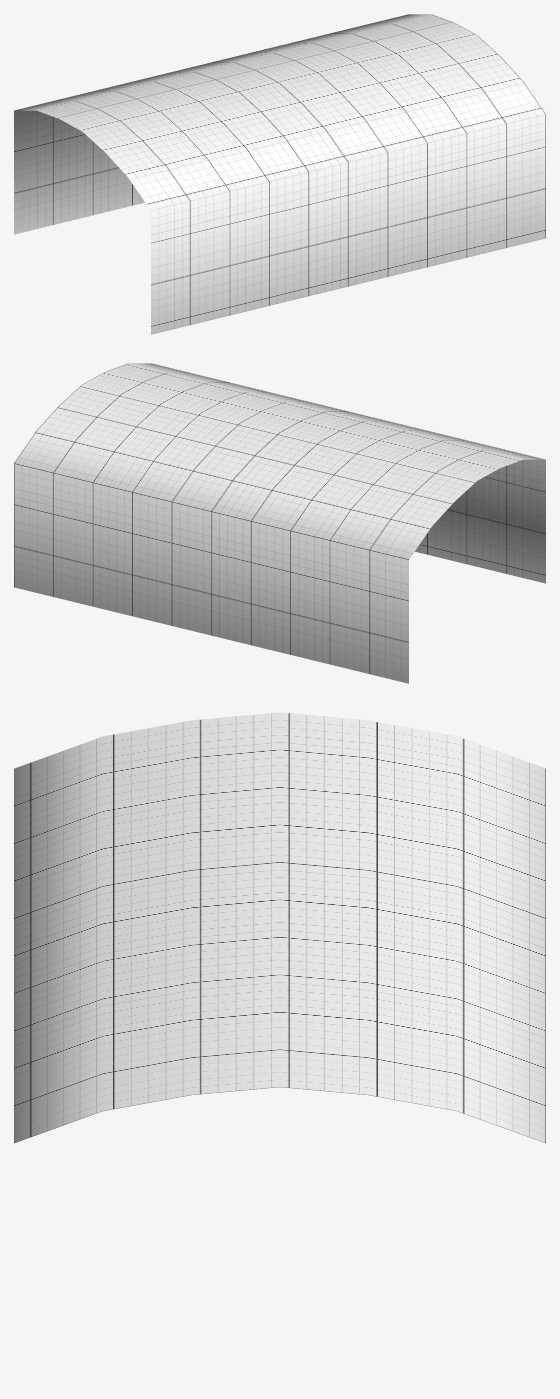
The model's file is Tile_Under_Bridge_6x10.fbx.
3 renders of one model, top to bottom at view 1: azimuth 30°, elevation 25°; view 2: azimuth 150°, elevation 25°; view 3: azimuth 270°, elevation 25°, orthographic. The views are drawn at different scales.
Parts seen in each view (by area): view 1: Tile_Under_Bridge_6x10; view 2: Tile_Under_Bridge_6x10; view 3: Tile_Under_Bridge_6x10.
Boxes of the visible parts, <box> form: Tile_Under_Bridge_6x10: <box>14,14,545,334</box>; Tile_Under_Bridge_6x10: <box>14,363,545,683</box>; Tile_Under_Bridge_6x10: <box>14,712,545,1143</box>.
Size of the model in its own units: 1000 by 370 by 600.
